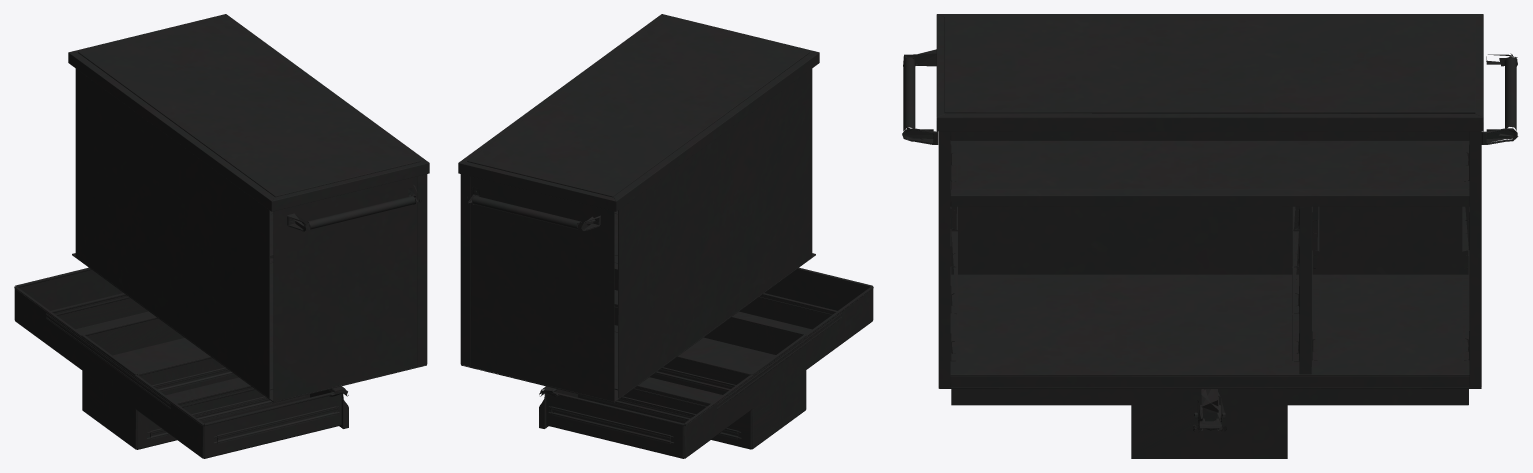
Rendered from equipment_rolling_tool_cabinet_heavyDuty_b01.glb.
3 renders of one model, left to right at view 1: azimuth 30°, elevation 25°; view 2: azimuth 150°, elevation 25°; view 3: azimuth 270°, elevation 25°, orthographic. The views are drawn at different scales.
Visible parts, largest first — view 1: geometry_0; view 2: geometry_0; view 3: geometry_0.
Part boxes in pixels (box(x1,y1,x2,y2)): geometry_0: box(14, 14, 429, 458); geometry_0: box(458, 14, 873, 458); geometry_0: box(902, 14, 1518, 458).
Size of the model in its own units: 0.2326 by 0.295 by 0.42.
1 material, 1 textured.
